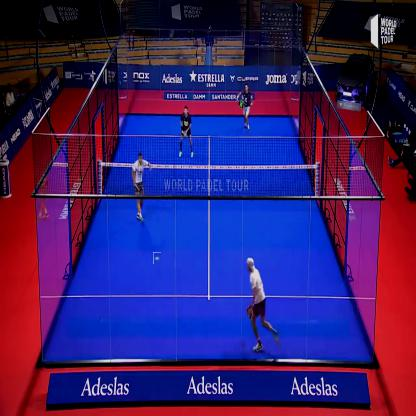ball: (153, 252, 162, 265)
